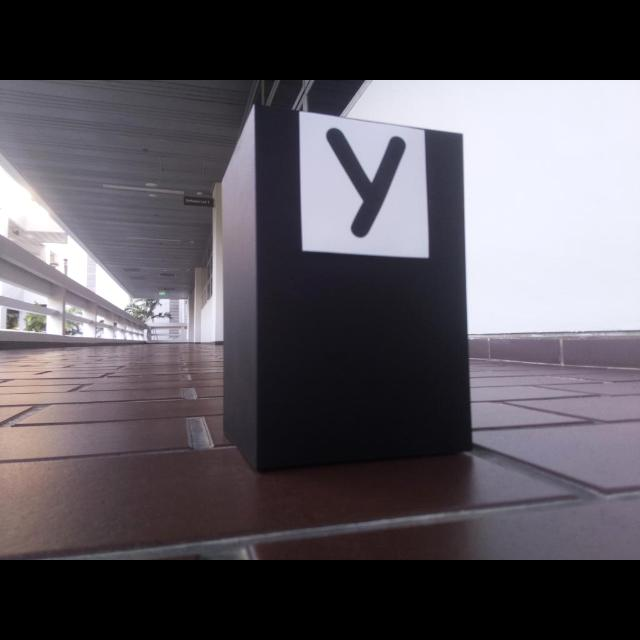Y: (327, 129, 406, 237)
